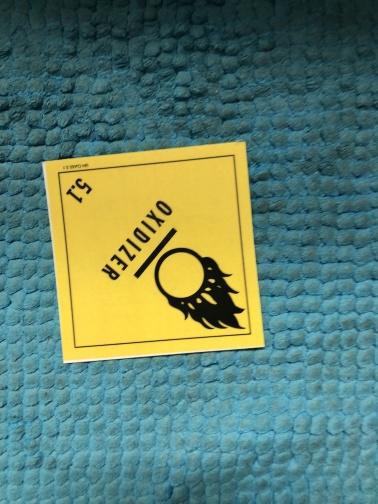Oxidizer: (44, 141, 266, 361)
